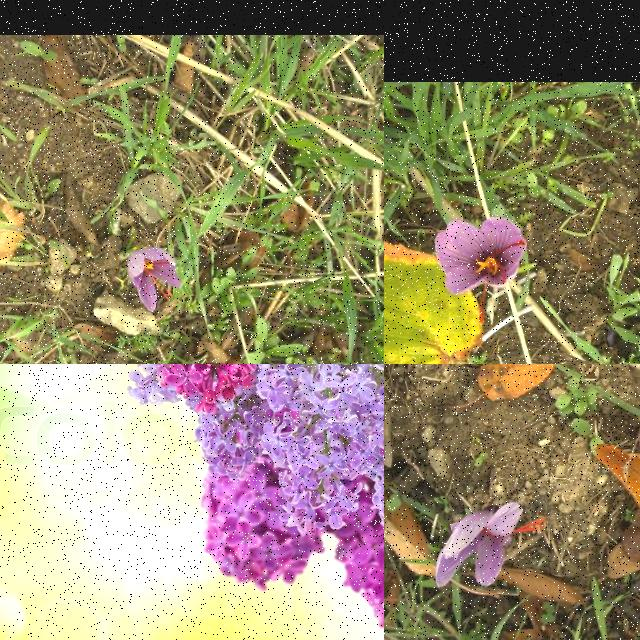flower: (437, 218, 528, 324), (435, 504, 547, 588), (128, 248, 182, 312)
